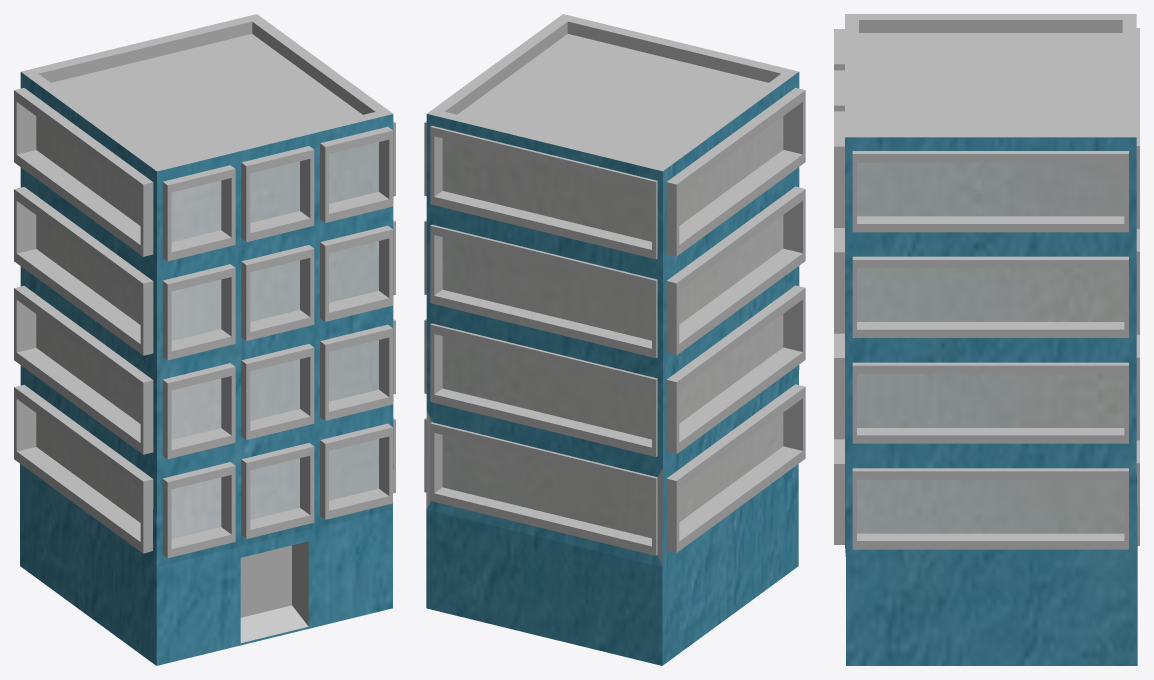
Rendered from tacky.fbx.
3 views of the same model, side by side, from view 1: azimuth 30°, elevation 25°; view 2: azimuth 150°, elevation 25°; view 3: azimuth 270°, elevation 25° (orthographic). The views are drawn at different scales.
Visible parts, largest first — view 1: Cube, Cube.003, Cube.001, Cube.002; view 2: Cube, Cube.003, Cube.001; view 3: Cube, Cube.003, Cube.001.
Part boxes in pixels (<box>): Cube: <box>14,14,395,642</box>; Cube.003: <box>20,72,393,665</box>; Cube.001: <box>36,116,378,538</box>; Cube.002: <box>240,545,291,617</box>; Cube: <box>424,14,805,566</box>; Cube.003: <box>426,72,799,665</box>; Cube.001: <box>442,116,783,538</box>; Cube: <box>834,14,1139,549</box>; Cube.003: <box>845,137,1137,665</box>; Cube.001: <box>857,162,1124,533</box>.
Bounding box in the file's own units: 534 × 1000 × 525.
